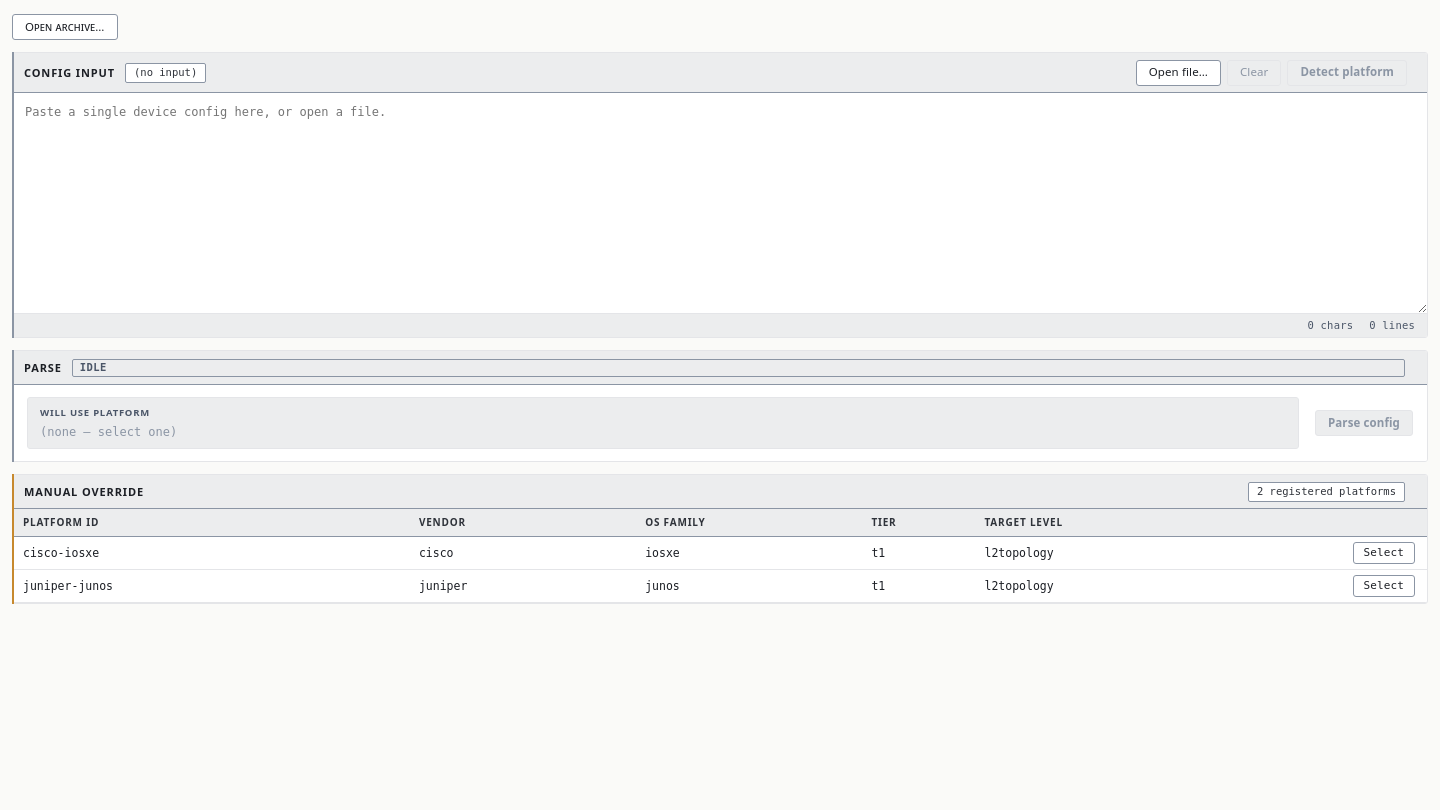
Test: IntakePanel × V1Q BatchRun › one device fails parse → row shows failed: parse; RunSummaryStrip shows 1 failed
The width and height of the screenshot is (1440, 810).
Type "x" into the text box named "Config text" at (720, 203), box [13,93,1427,313]
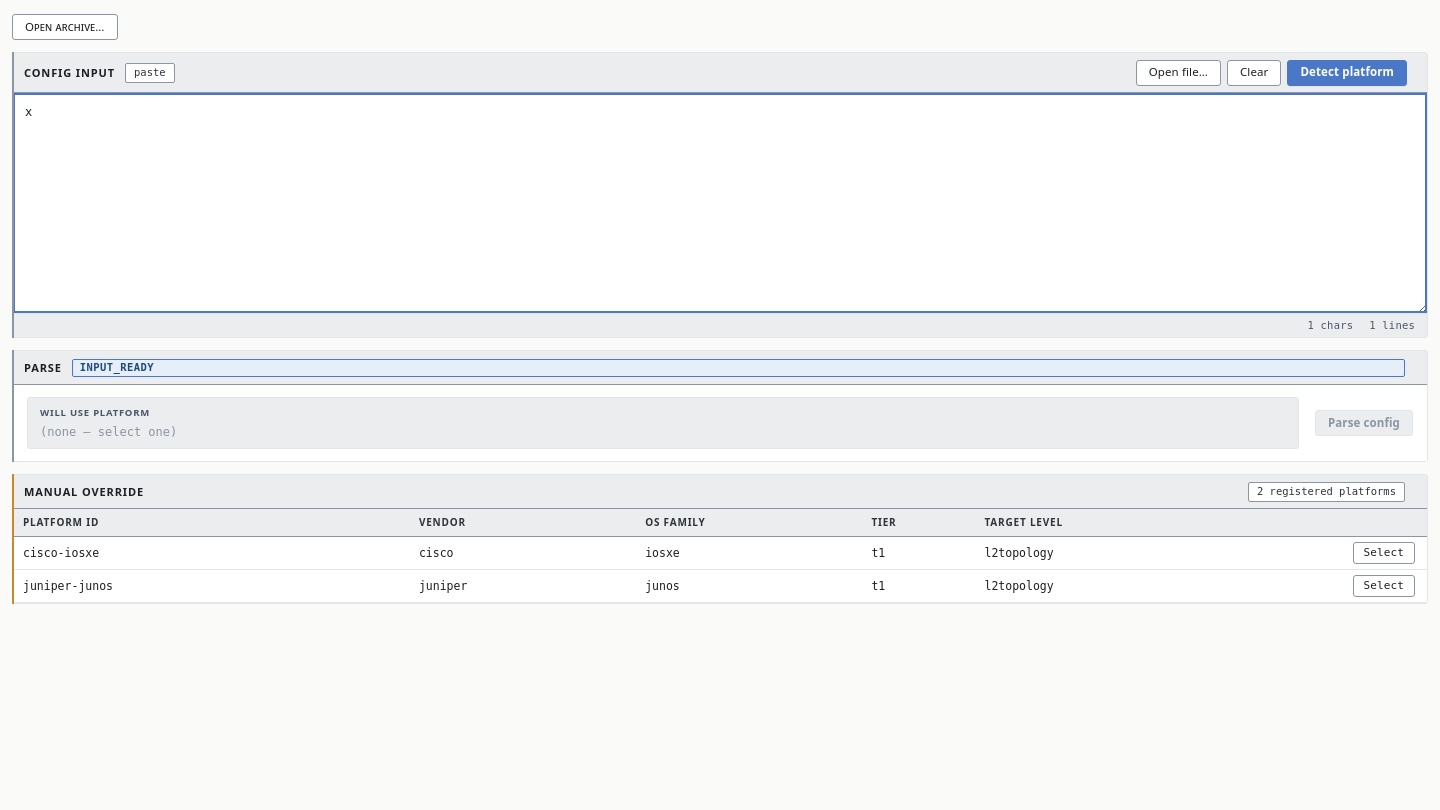
Click the button "Detect platform" at (1347, 72), box [1288,60,1407,86]
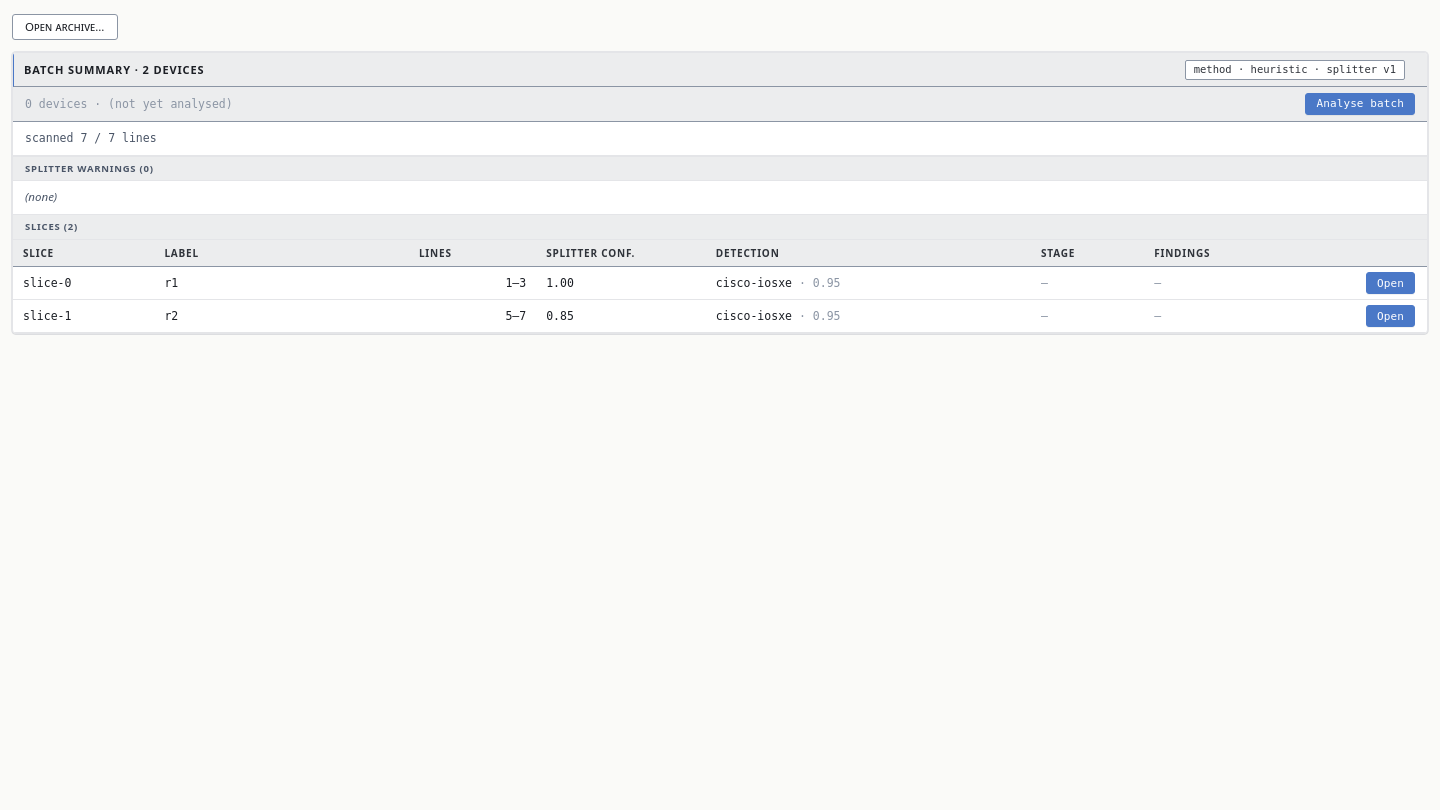
Check: the element labelled "BATCH SUMMARY" is shown, box [12,52,1428,334]
Click the button "Analyse batch" at (1360, 104), box [1306,93,1415,115]
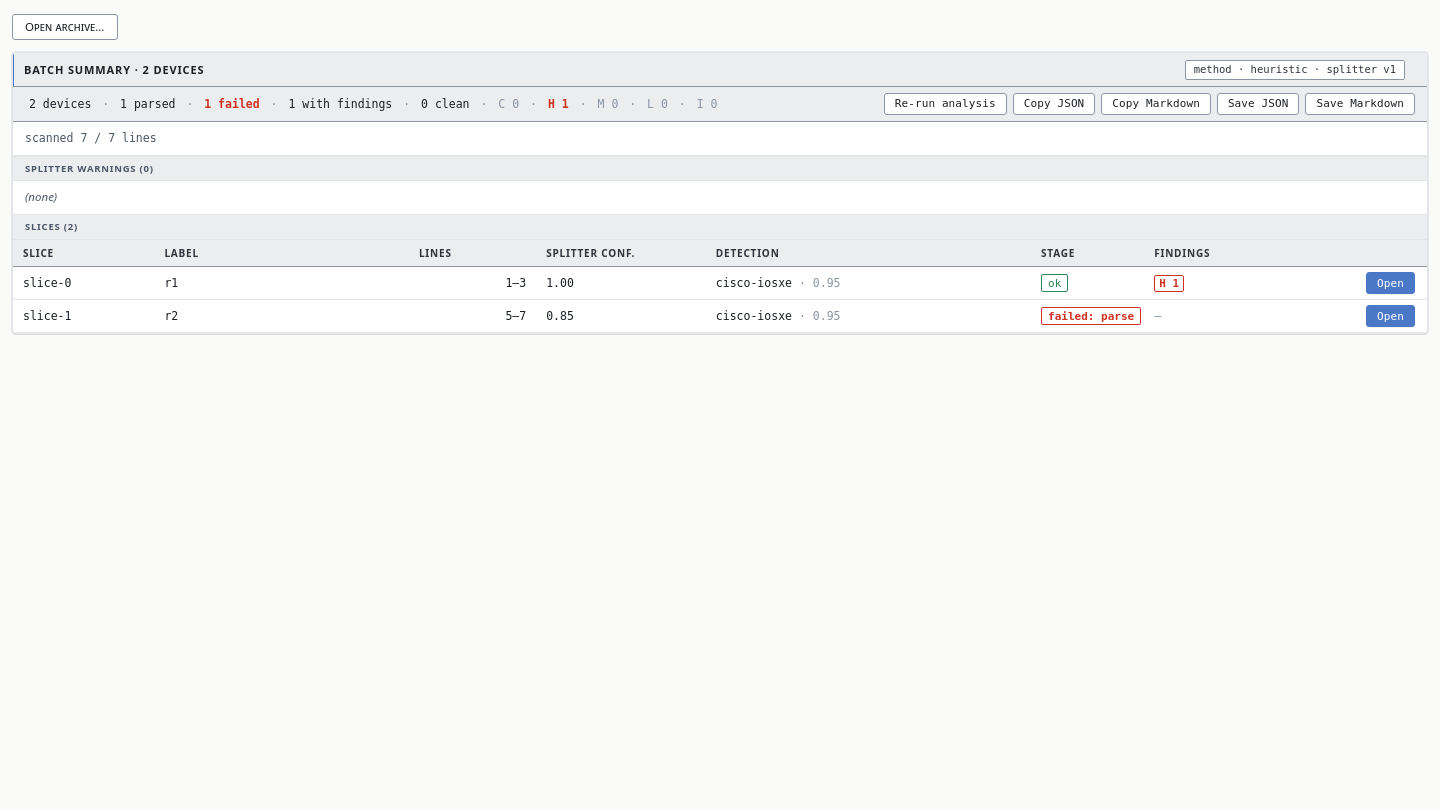
Check: the text "1 failed" is shown, box [200,97,264,111]
Check: the text labelled "failed: parse" is shown, box [1041,307,1141,325]
